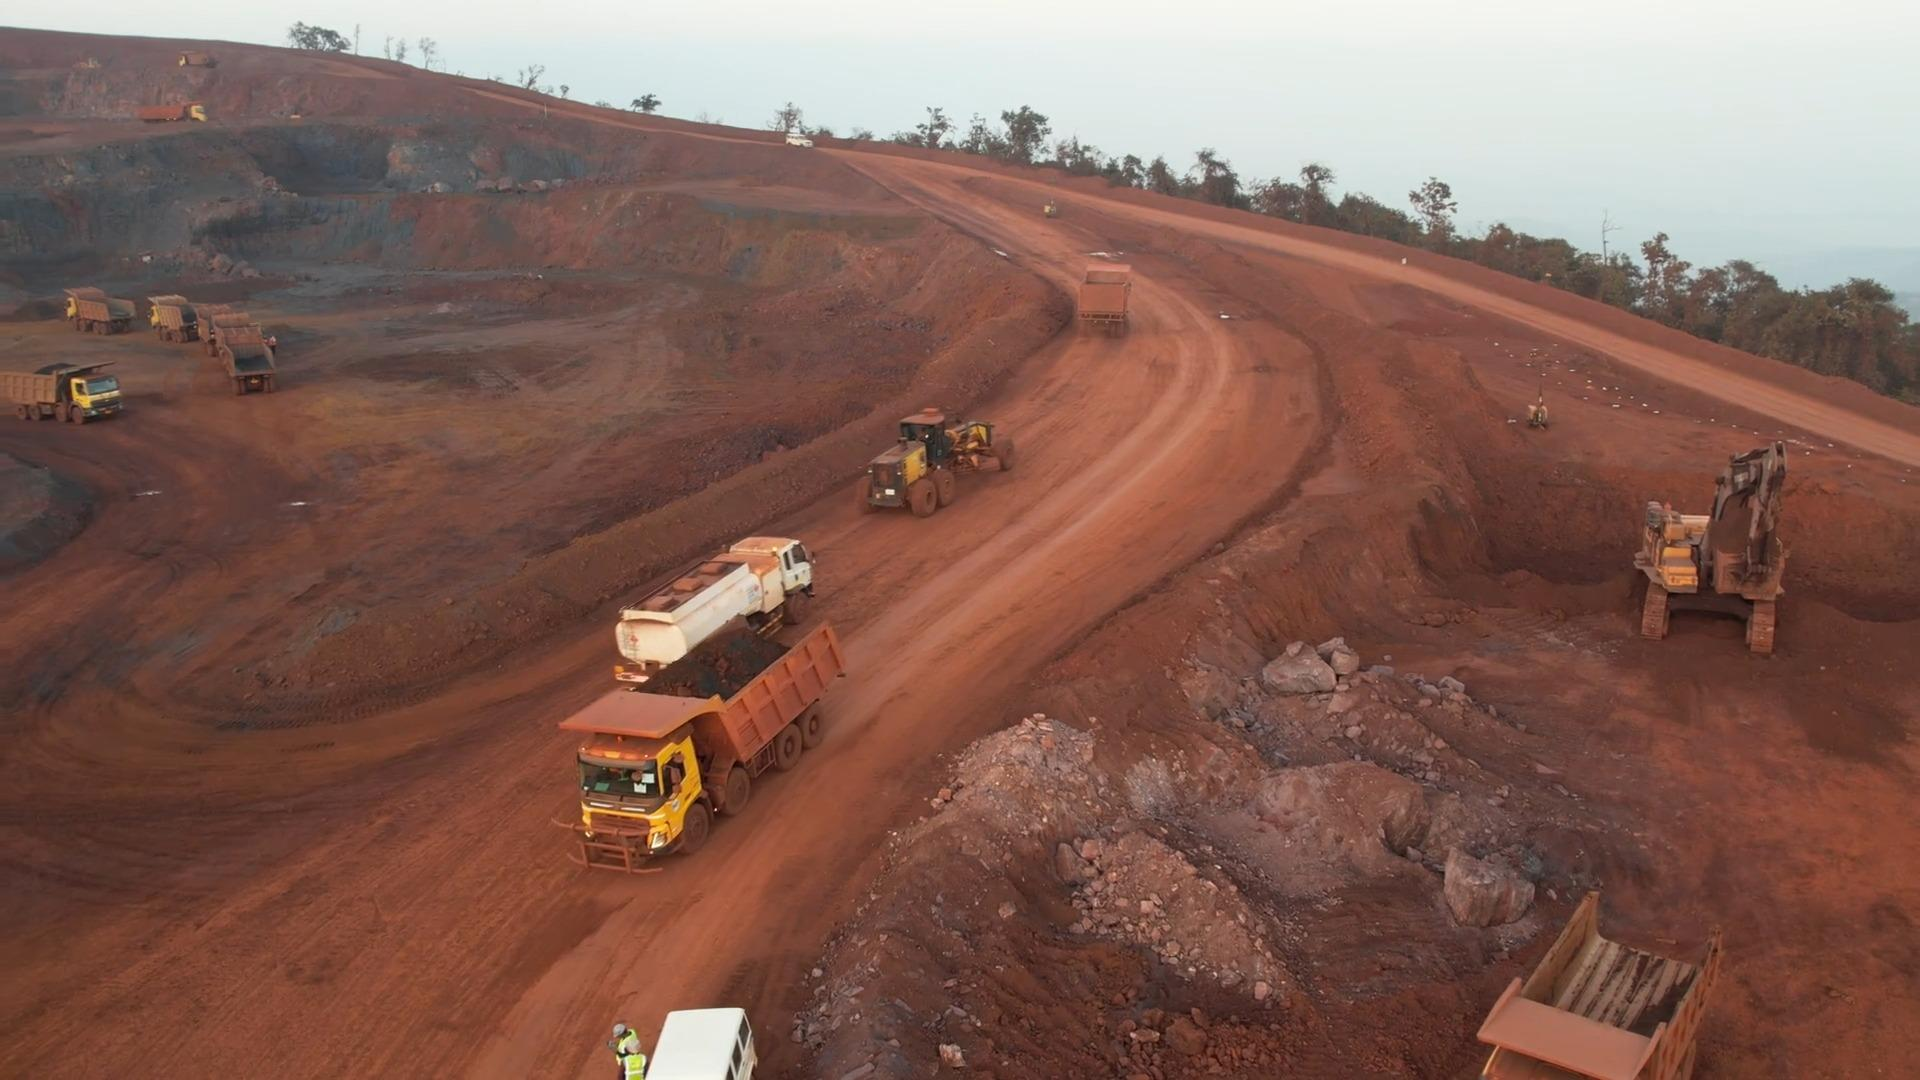excavator: (1636, 443, 1797, 642)
